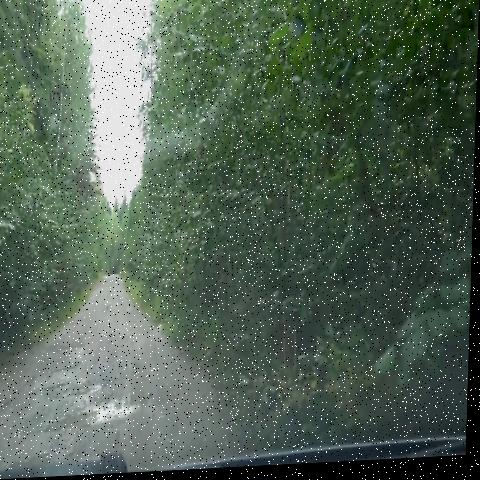pothole: (33, 396, 152, 441), (39, 374, 77, 402), (48, 344, 95, 363), (53, 361, 85, 381)
